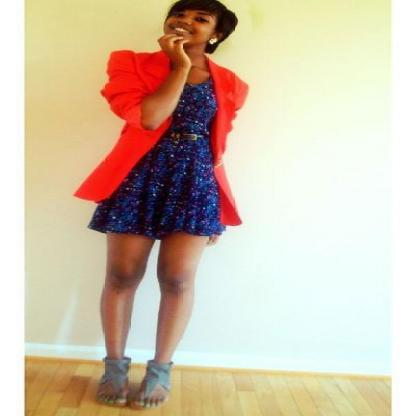dress: (87, 77, 226, 238)
jacket: (74, 50, 247, 225)
shoe: (100, 352, 172, 400)
